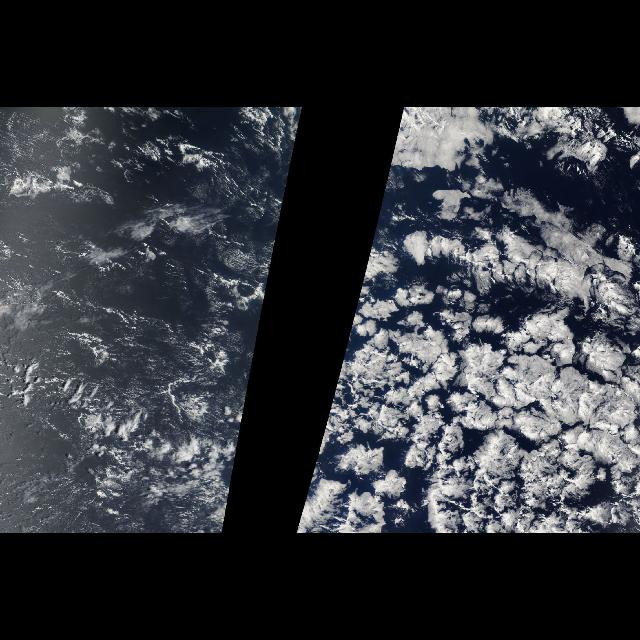Flower: (303, 208, 639, 532)
